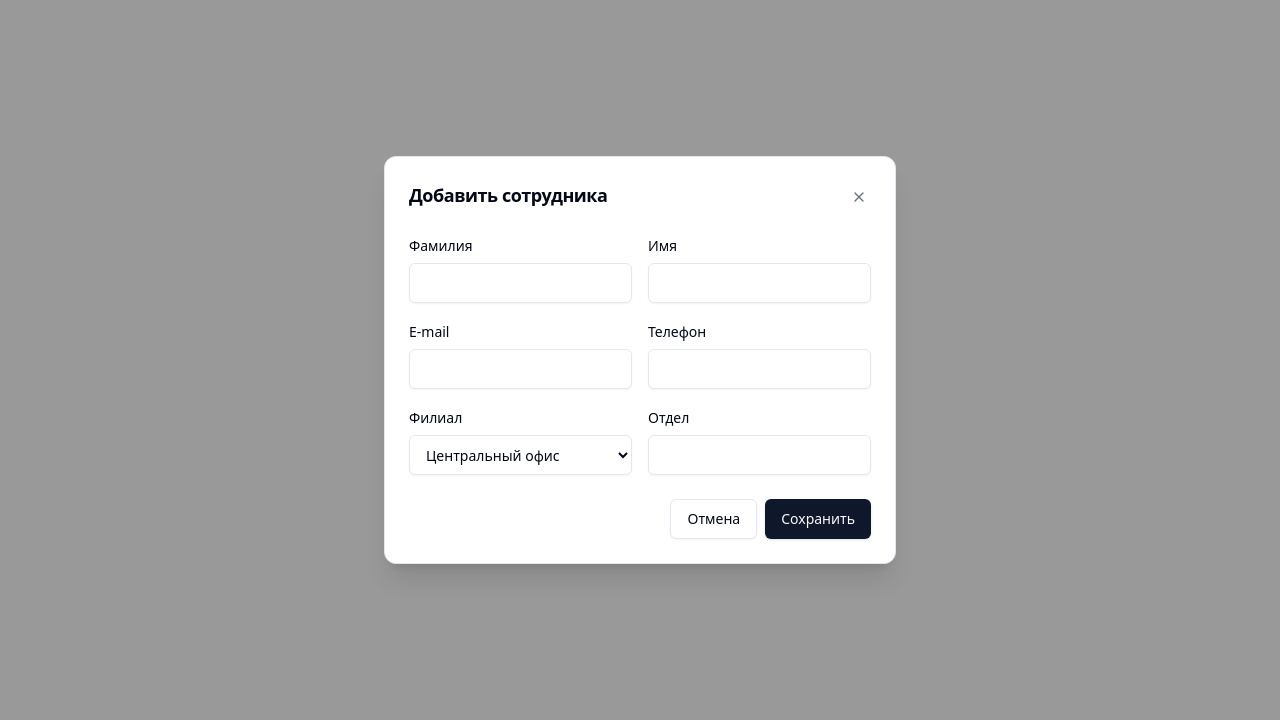
it: EmployeeFormDialog › surfaces errorEmailNonAscii when email contains Cyrillic letters
This screenshot has width=1280, height=720.
Type "Khach" into the field labelled "Имя".
click(760, 283); type("Khach")  # box [648, 263, 871, 303]
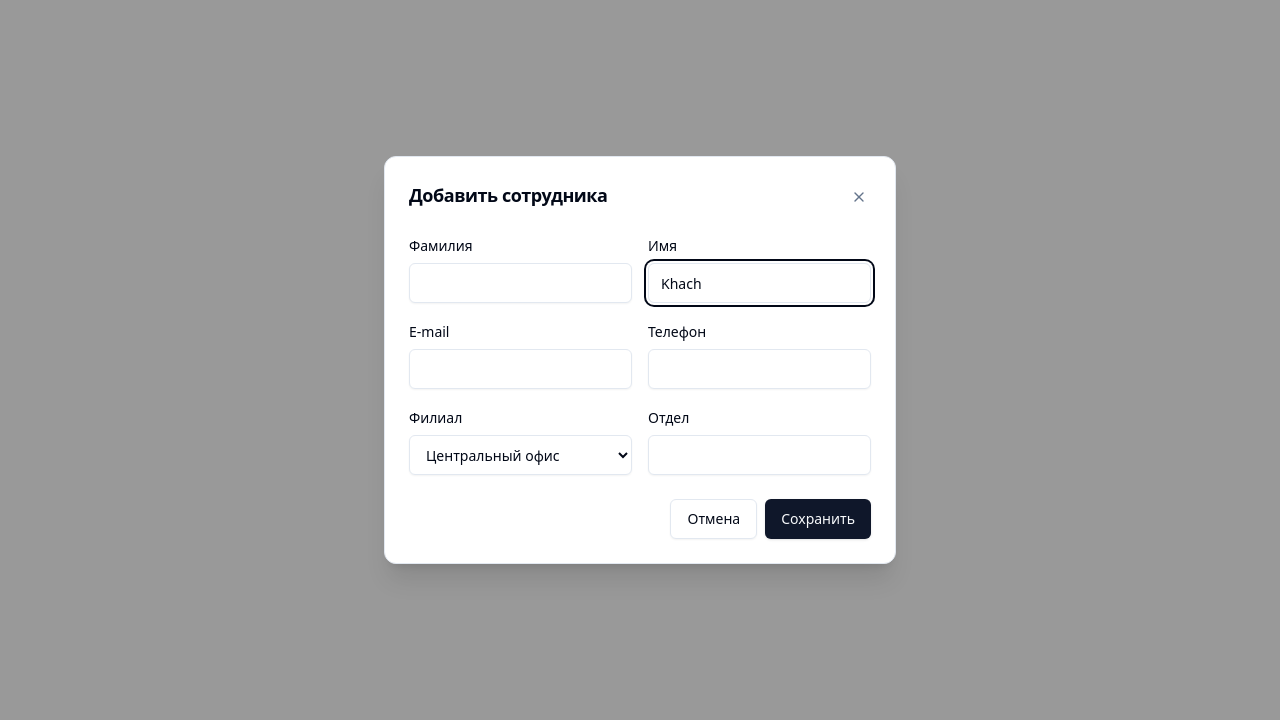
Type "Z" into the field labelled "Фамилия".
click(520, 283); type("Z")  # box [409, 263, 632, 303]
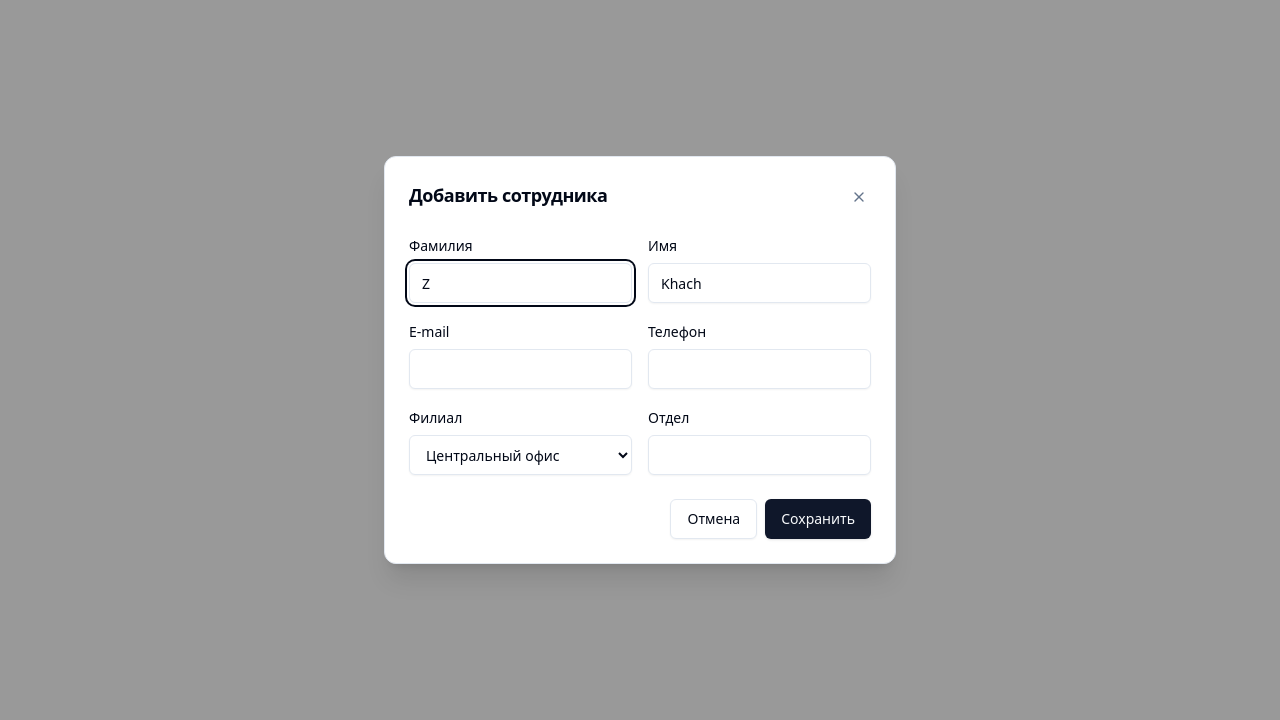
Type "тест@example.com" into the field labelled "E-mail".
click(520, 369); type("тест@example.com")  # box [409, 349, 632, 389]
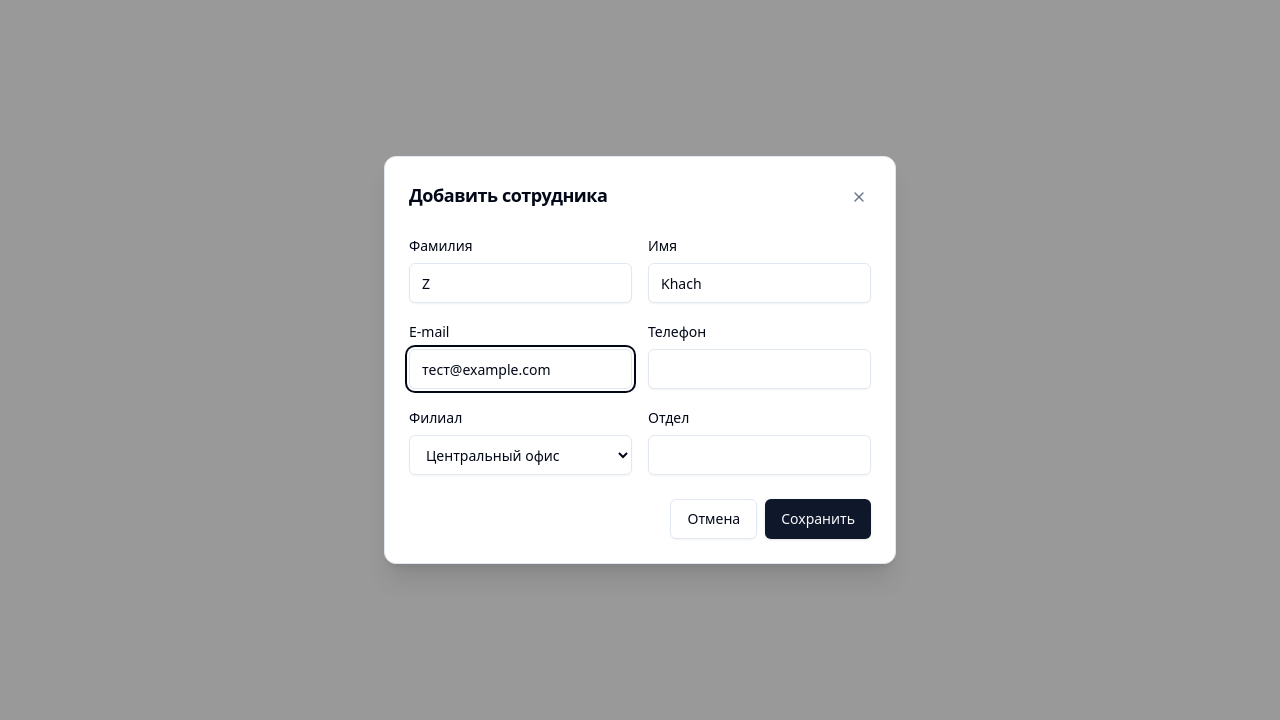
Click the button "Сохранить".
click(818, 519)  # box [765, 499, 871, 539]
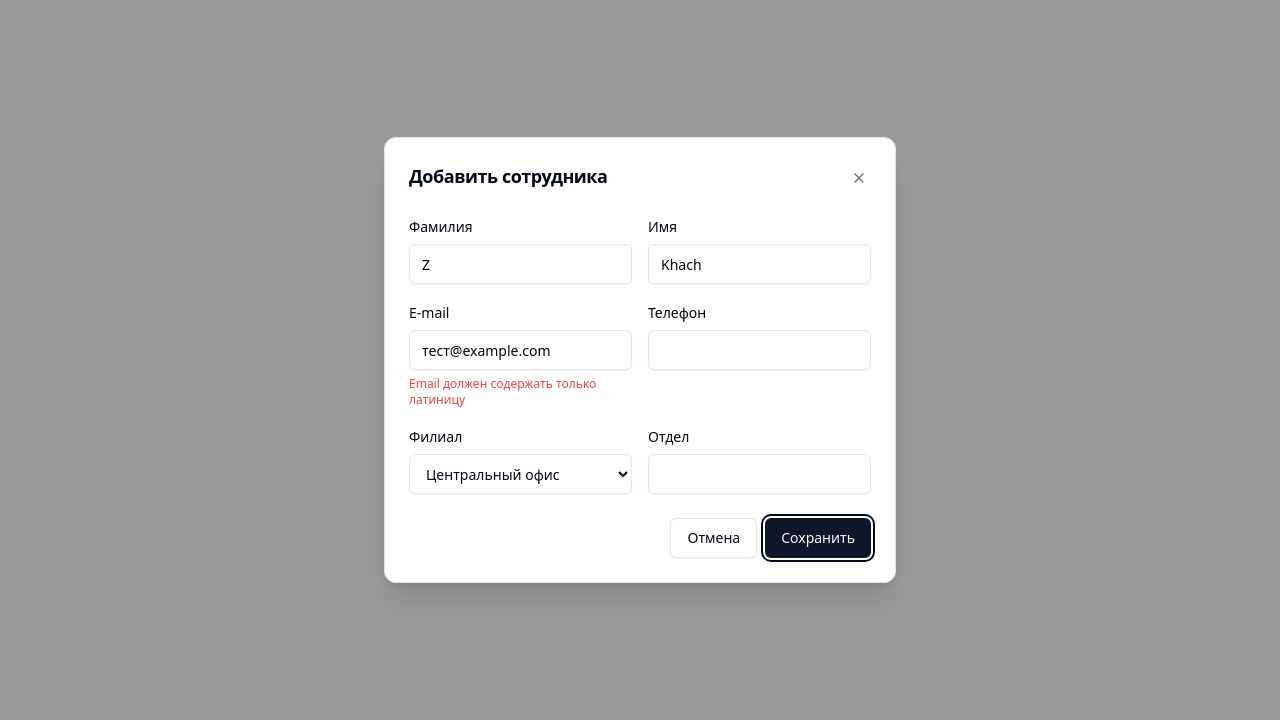
expect the text "Email должен содержать только латиницу" is shown: met, box [409, 375, 596, 408]
